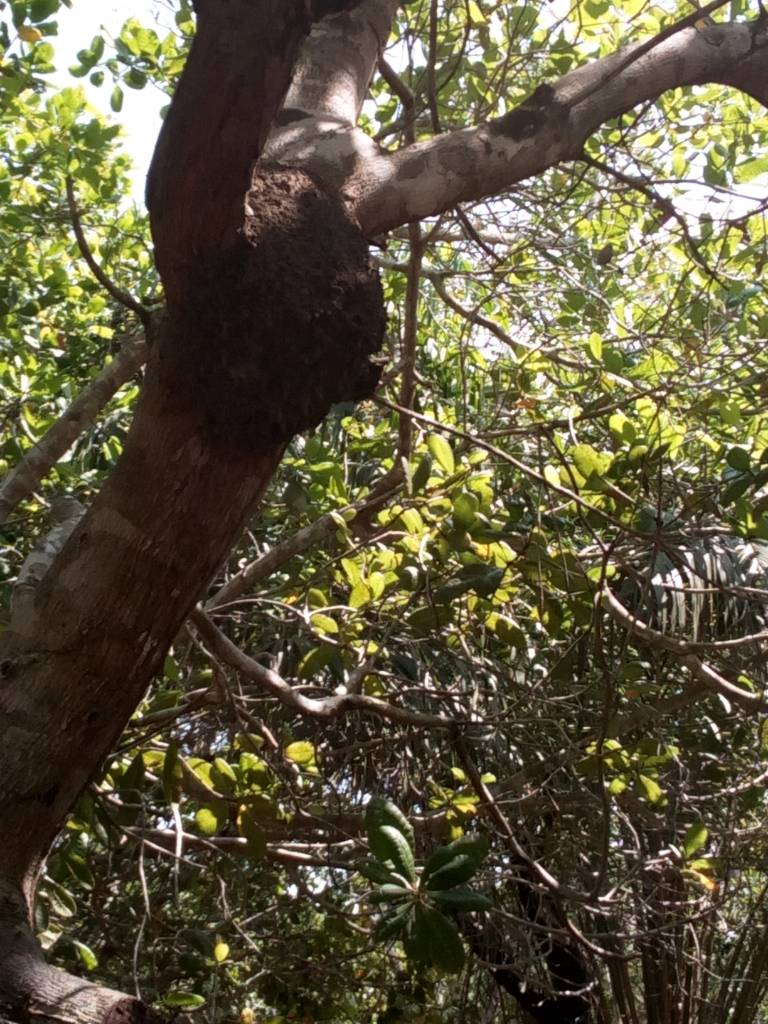Termites: (224, 164, 385, 432)
